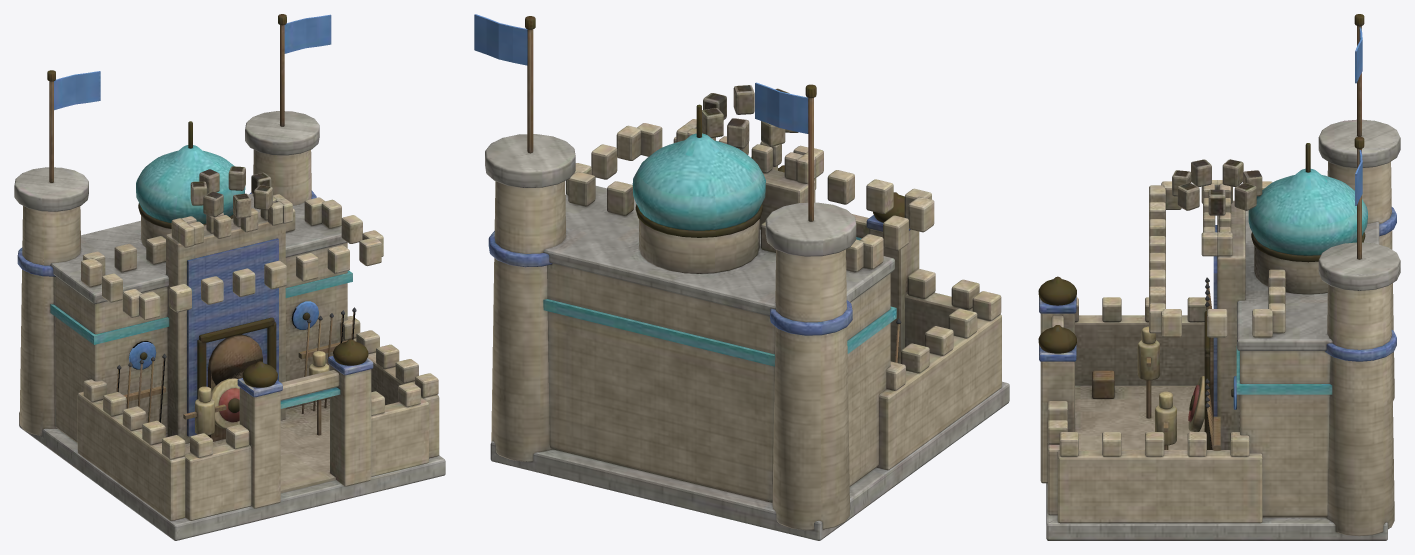
Rendered from barracks_iran.glb.
3 views of the same model, side by side, from view 1: azimuth 30°, elevation 25°; view 2: azimuth 150°, elevation 25°; view 3: azimuth 270°, elevation 25° (orthographic). The views are drawn at different scales.
Parts seen in each view (by area): view 1: barracks_iran; view 2: barracks_iran; view 3: barracks_iran.
Part boxes in pixels (bbox=[...]): barracks_iran: bbox=[14, 14, 445, 540]; barracks_iran: bbox=[474, 14, 1009, 540]; barracks_iran: bbox=[1038, 14, 1400, 540].
Size of the model in its own units: 6.87 by 7.62 by 6.36.
1 material, 1 textured.
